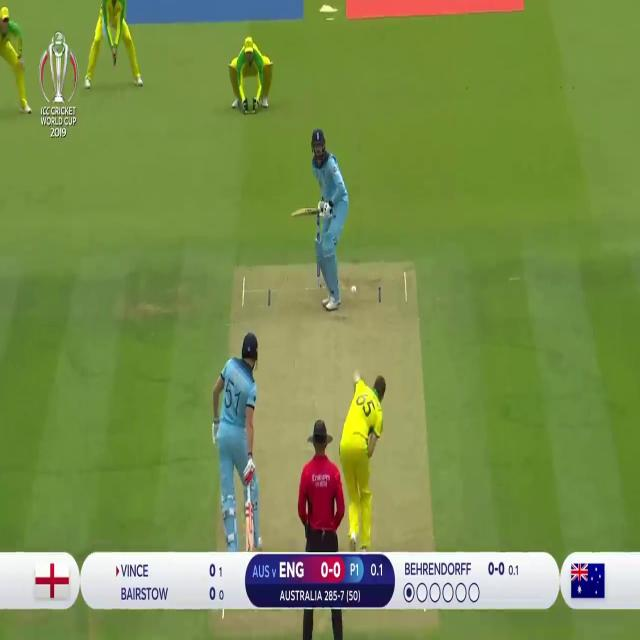ball: (350, 280, 358, 298)
